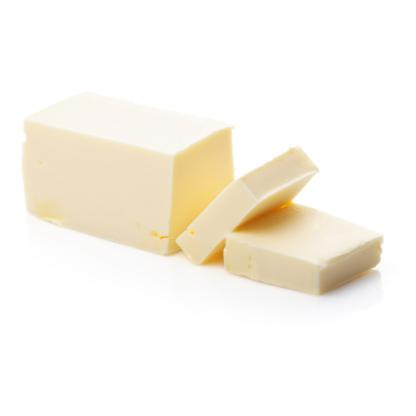butter: (22, 91, 232, 257), (177, 146, 316, 268), (229, 206, 374, 295)
